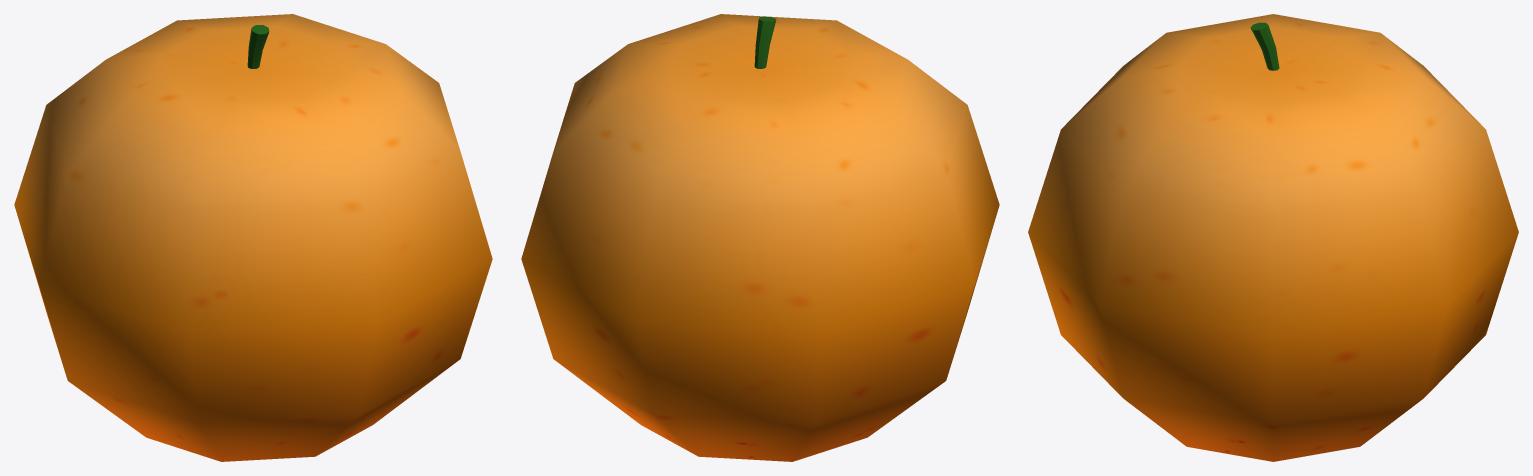
File: orange.fbx
3 views of the same model, side by side, from view 1: azimuth 30°, elevation 25°; view 2: azimuth 150°, elevation 25°; view 3: azimuth 270°, elevation 25° (orthographic).
Parts seen in each view (by area): view 1: orange_mesh; view 2: orange_mesh; view 3: orange_mesh.
Part boxes in pixels (x1,y1,x2,y2): orange_mesh: (14,14,492,461); orange_mesh: (521,14,999,461); orange_mesh: (1028,14,1518,461).
Size of the model in its own units: 1.13 by 1.03 by 1.13.
